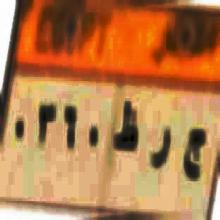0: (86, 119, 103, 158), (14, 110, 26, 151)
3: (35, 95, 57, 145)
6: (61, 98, 80, 155)
Thaa: (114, 94, 139, 162)
jeem: (183, 122, 205, 191)
raa: (150, 119, 173, 177)
